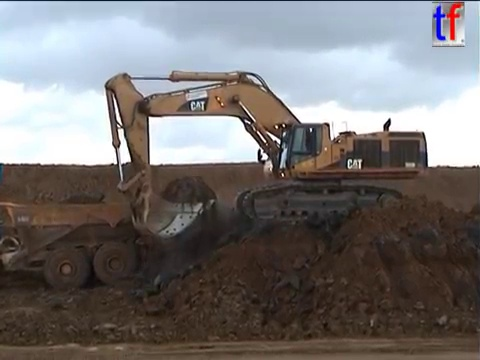excavator: (102, 67, 431, 243)
truck: (1, 196, 184, 290)
